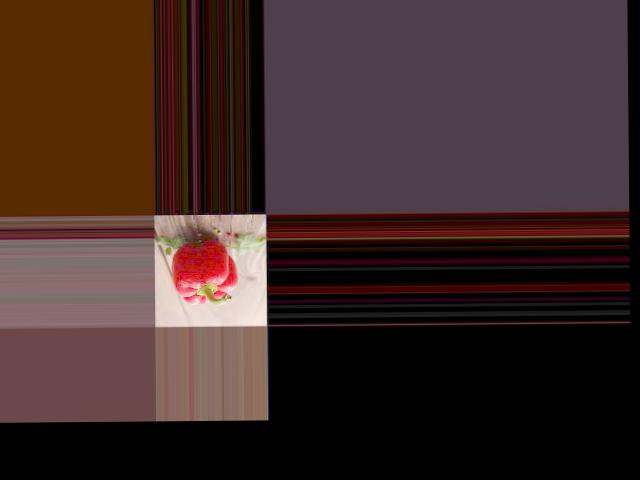bell_pepper: (167, 238, 241, 310)
